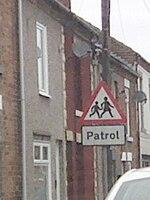School Ahead: (76, 79, 128, 146)
